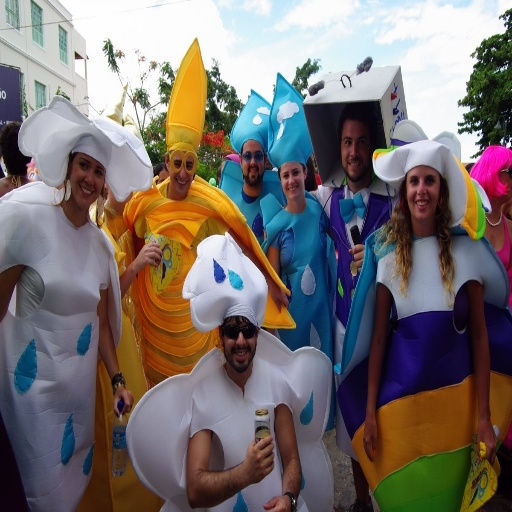hand: (238, 428, 275, 490), (477, 423, 497, 465), (112, 384, 134, 417), (363, 418, 378, 463), (268, 282, 289, 313), (139, 242, 162, 265), (347, 244, 365, 273), (263, 493, 291, 511), (261, 227, 266, 239)
